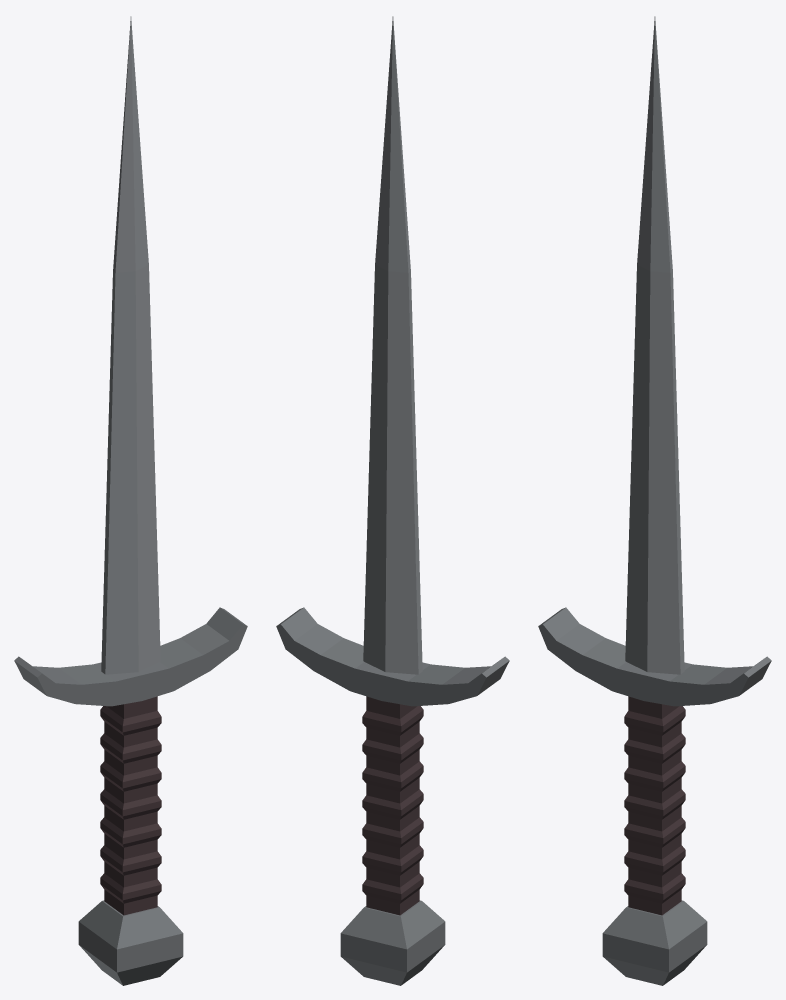
Rendered from Sword.001.fbx.
The picture shows the model from 3 angles, left to right: view 1: azimuth 30°, elevation 25°; view 2: azimuth 150°, elevation 25°; view 3: azimuth 330°, elevation 25°; orthographic projection.
Parts seen in each view (by area): view 1: Sword.001; view 2: Sword.001; view 3: Sword.001.
Boxes of the visible parts, x1,y1,x2,y2 form: Sword.001: [14, 16, 247, 985]; Sword.001: [276, 16, 509, 985]; Sword.001: [538, 16, 771, 985].
Size of the model in its own units: 11.46 by 49.95 by 3.62.
